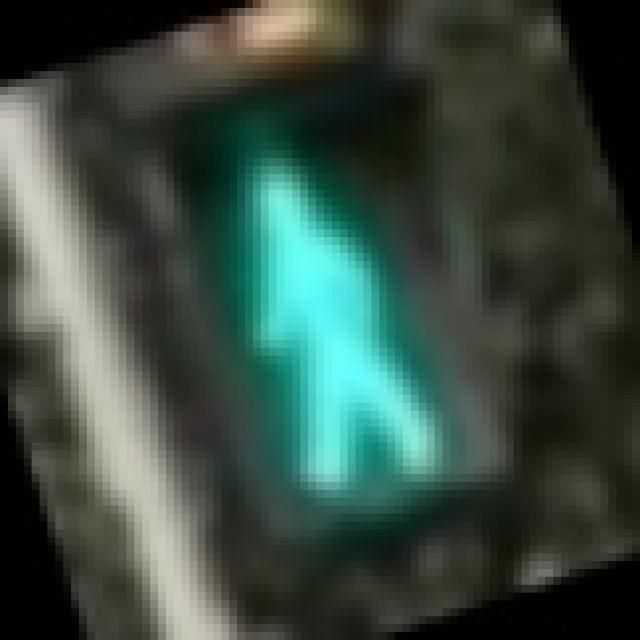green_light: (110, 55, 506, 545)
